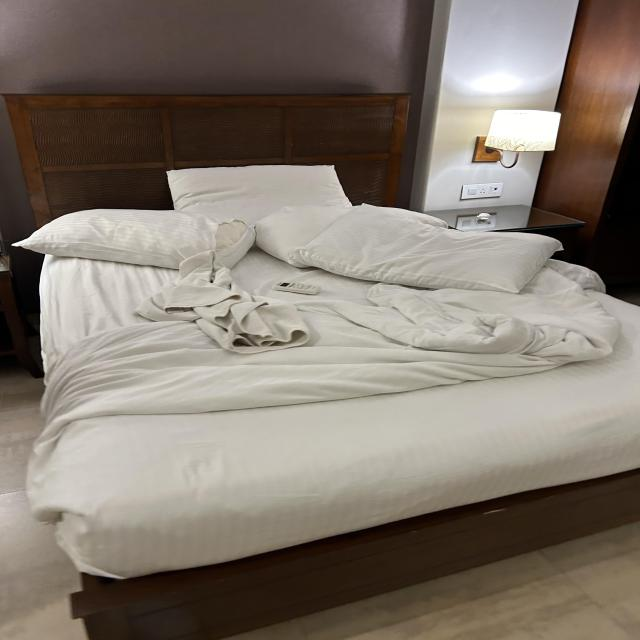mess: (25, 195, 640, 488)
